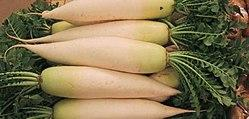radish: (5, 7, 67, 14), (15, 12, 69, 17), (14, 0, 70, 4), (18, 18, 74, 22)
